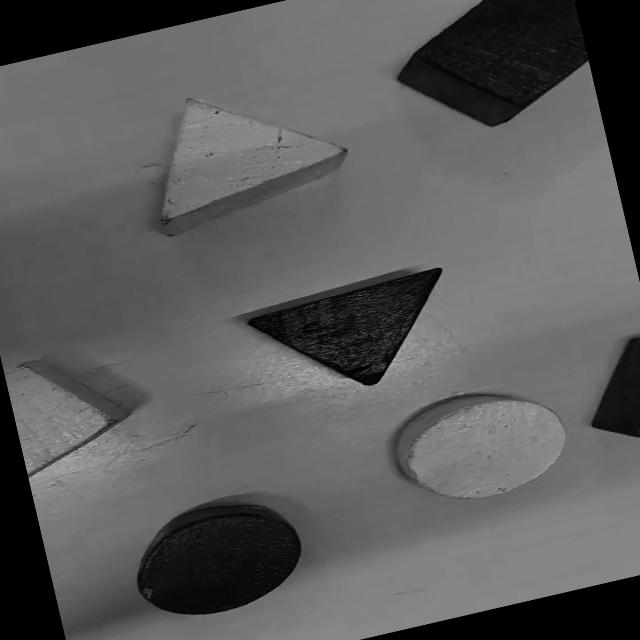bcube: (397, 0, 588, 127)
btriangle: (245, 266, 463, 410)
rcircle: (124, 486, 312, 626)
ycircle: (393, 395, 566, 500)
ytriangle: (134, 67, 356, 236)
